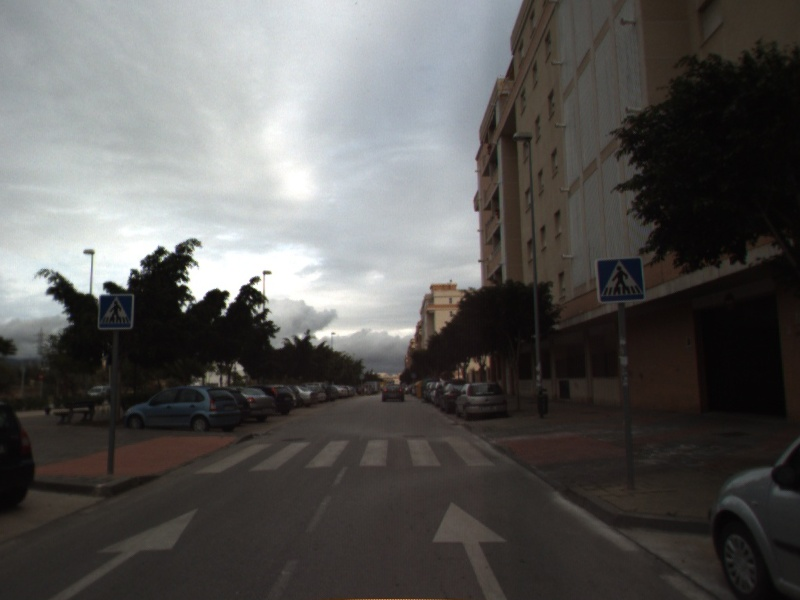STRAIGHT: (46, 506, 201, 600), (430, 499, 512, 600)
